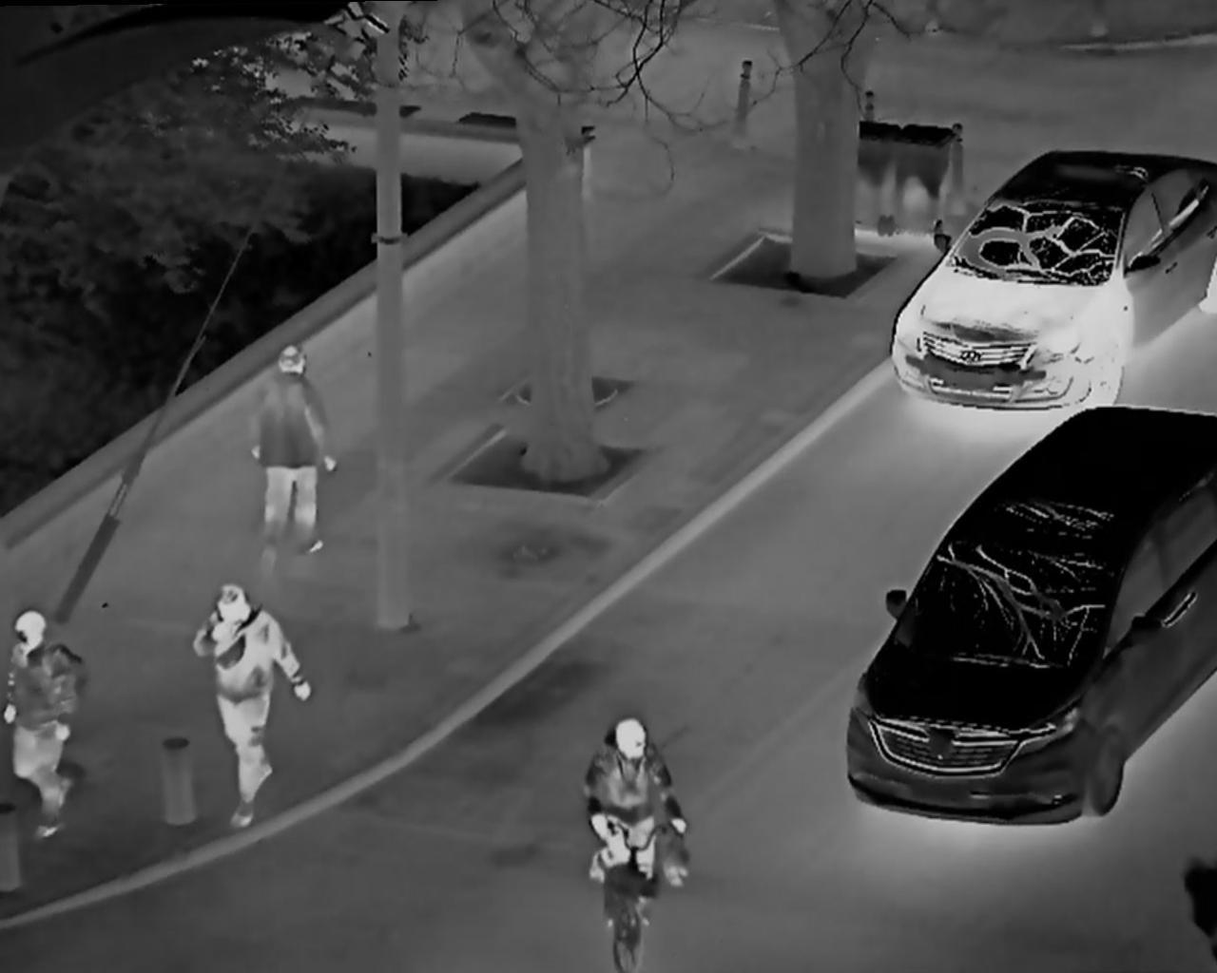person: (176, 578, 309, 837), (238, 337, 347, 578), (574, 702, 694, 920), (9, 601, 82, 865)
